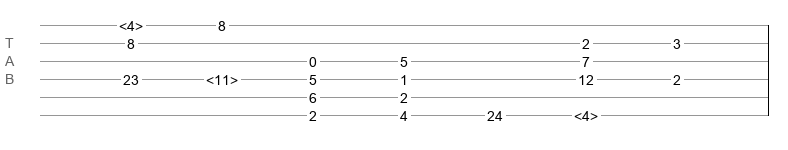0: (309, 54, 317, 64)
1: (400, 72, 408, 82)
12: (578, 72, 594, 82)
2: (309, 108, 317, 118), (400, 90, 408, 100), (582, 36, 590, 46), (673, 72, 681, 82)
23: (123, 72, 139, 82)
24: (487, 108, 503, 118)
3: (673, 36, 681, 46)
4: (400, 108, 408, 118)
5: (309, 72, 317, 82), (400, 54, 408, 64)
6: (309, 90, 317, 100)
7: (582, 54, 590, 64)
8: (127, 36, 135, 46), (218, 18, 226, 28)
harmonic: (206, 72, 238, 82), (119, 18, 143, 28), (574, 108, 598, 118)
